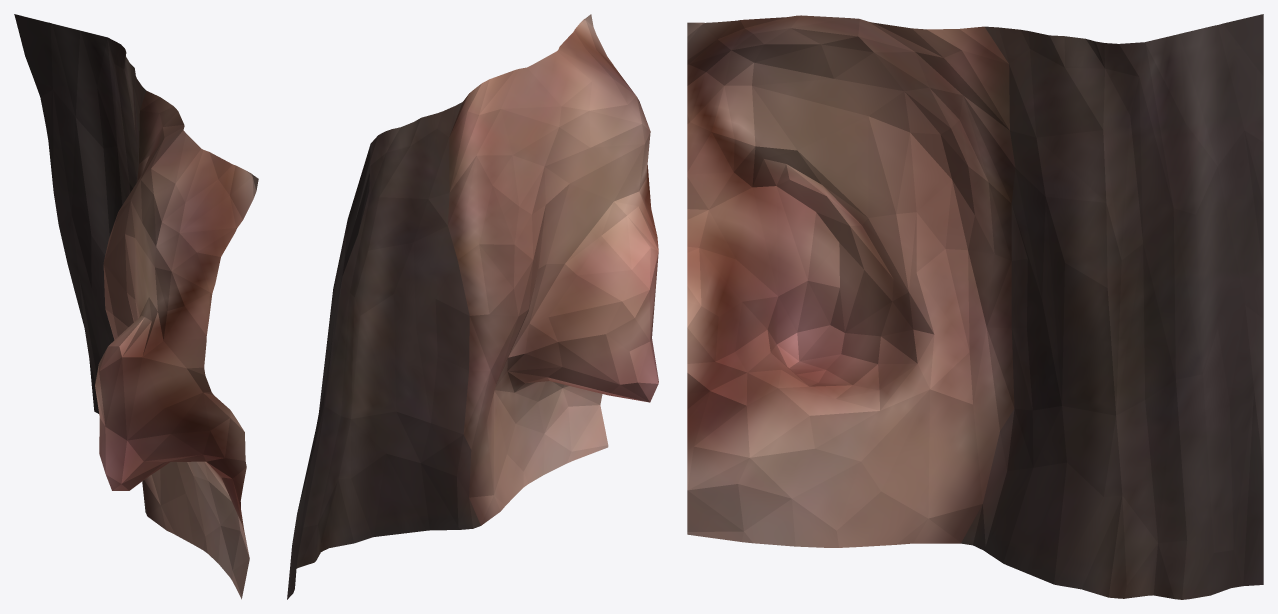
3 views of the same model, side by side, from view 1: azimuth 30°, elevation 25°; view 2: azimuth 150°, elevation 25°; view 3: azimuth 270°, elevation 25° (orthographic). The views are drawn at different scales.
Visible parts, largest first — view 1: 091_W_Aya_100K_01; view 2: 091_W_Aya_100K_01; view 3: 091_W_Aya_100K_01.
Boxes of the visible parts, box(x1,y1,x2,y2) form: 091_W_Aya_100K_01: box(14, 14, 258, 599); 091_W_Aya_100K_01: box(287, 14, 658, 599); 091_W_Aya_100K_01: box(687, 14, 1263, 599).
Size of the model in its own units: 21.45 by 42.87 by 42.87.
Materials: 1 (1 with a texture image).
